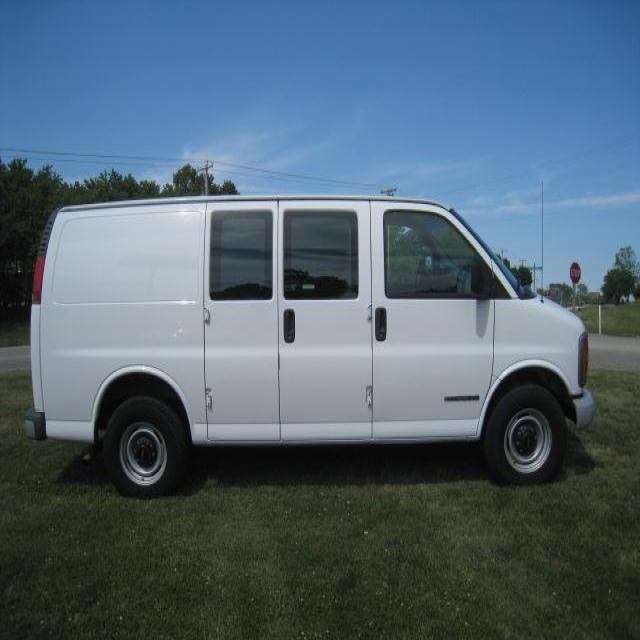Van: (12, 165, 640, 500)
